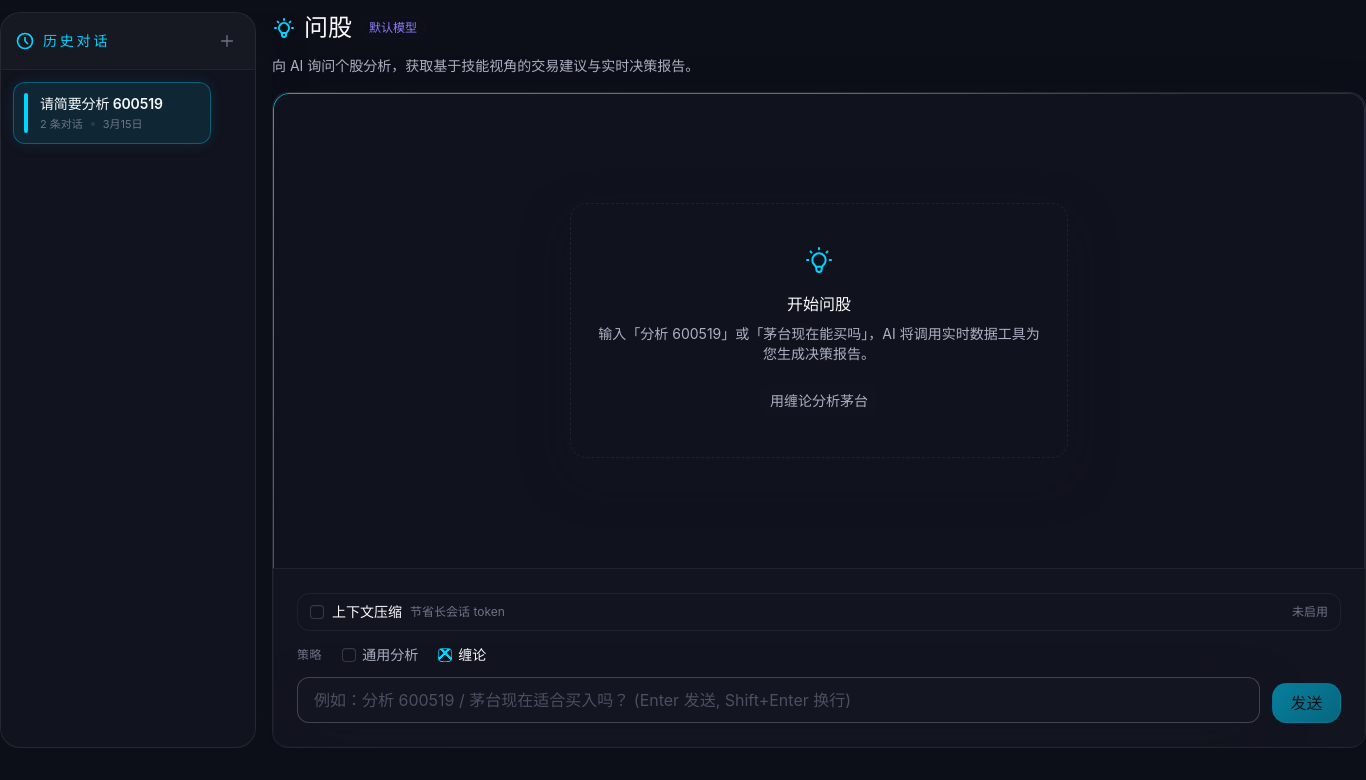
Test case: ChatPage › keeps a quick question in the input until the server accepts it
Click the button "用缠论分析茅台".
click(819, 400)  # box [758,384,880,417]
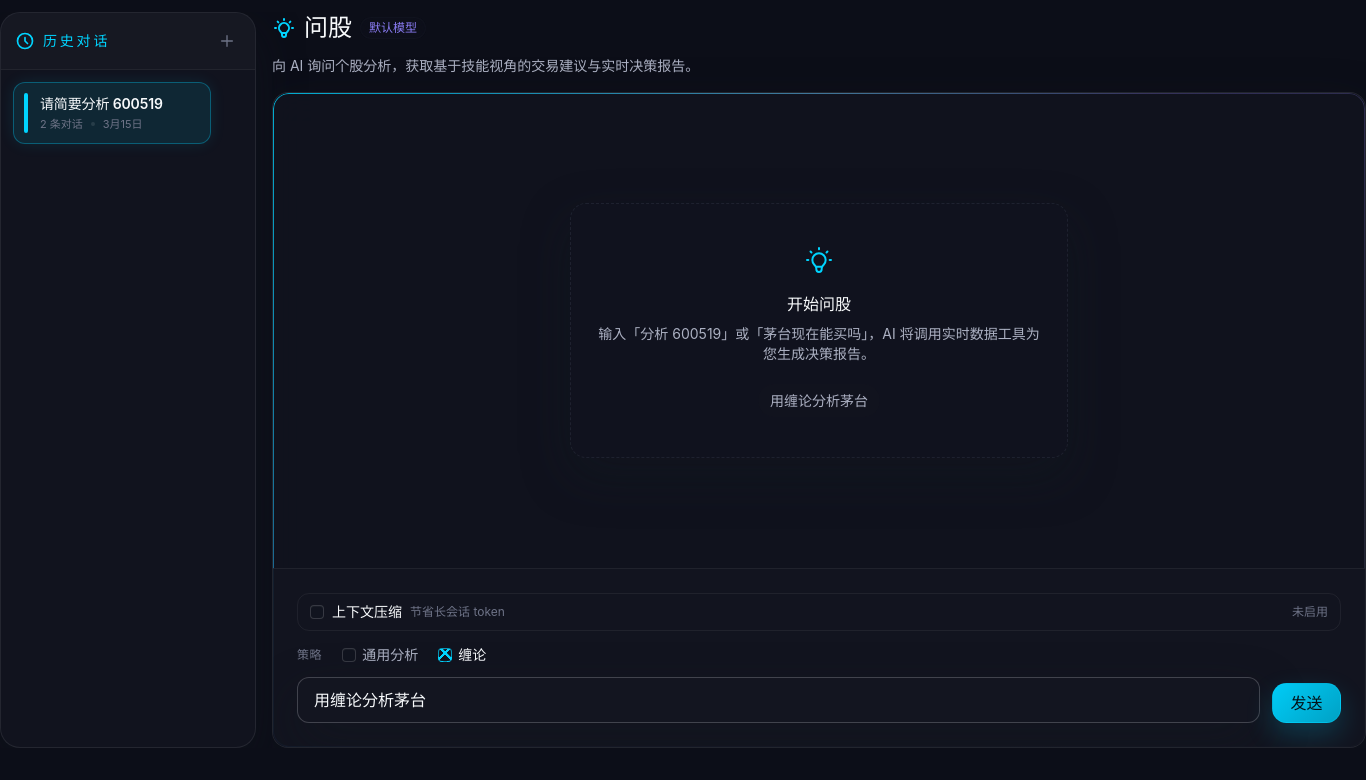
Expected: the text box with placeholder "例如：分析 600519 / 茅台现在适合买入吗？ (Enter 发送, Shift+Enter 换行)" holds "用缠论分析茅台", [297,677,1260,723]
